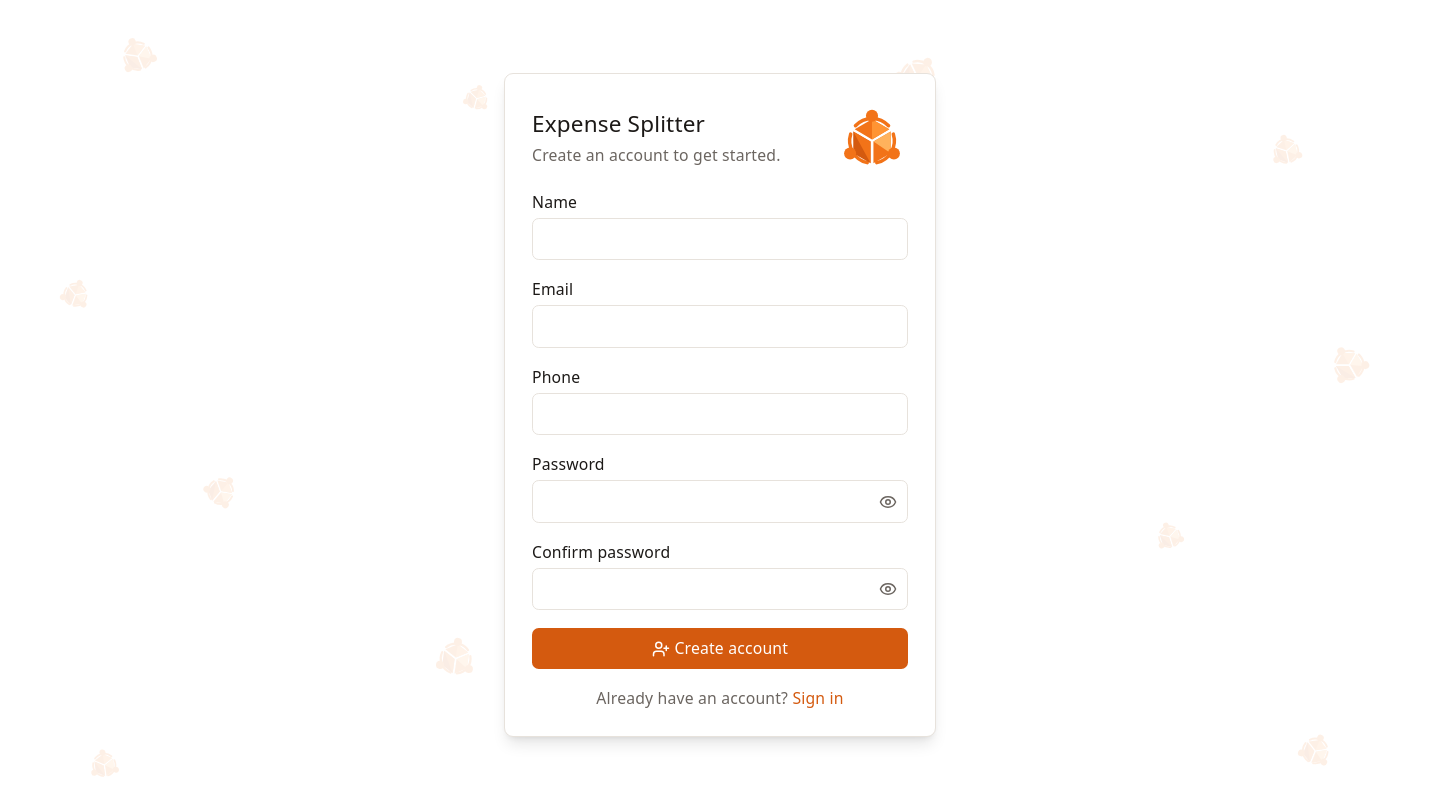
Test: RegisterPage › shows validation errors when submitted empty
The width and height of the screenshot is (1440, 810).
Click the button "Create account" at [720, 649], box [532,628,908,669]
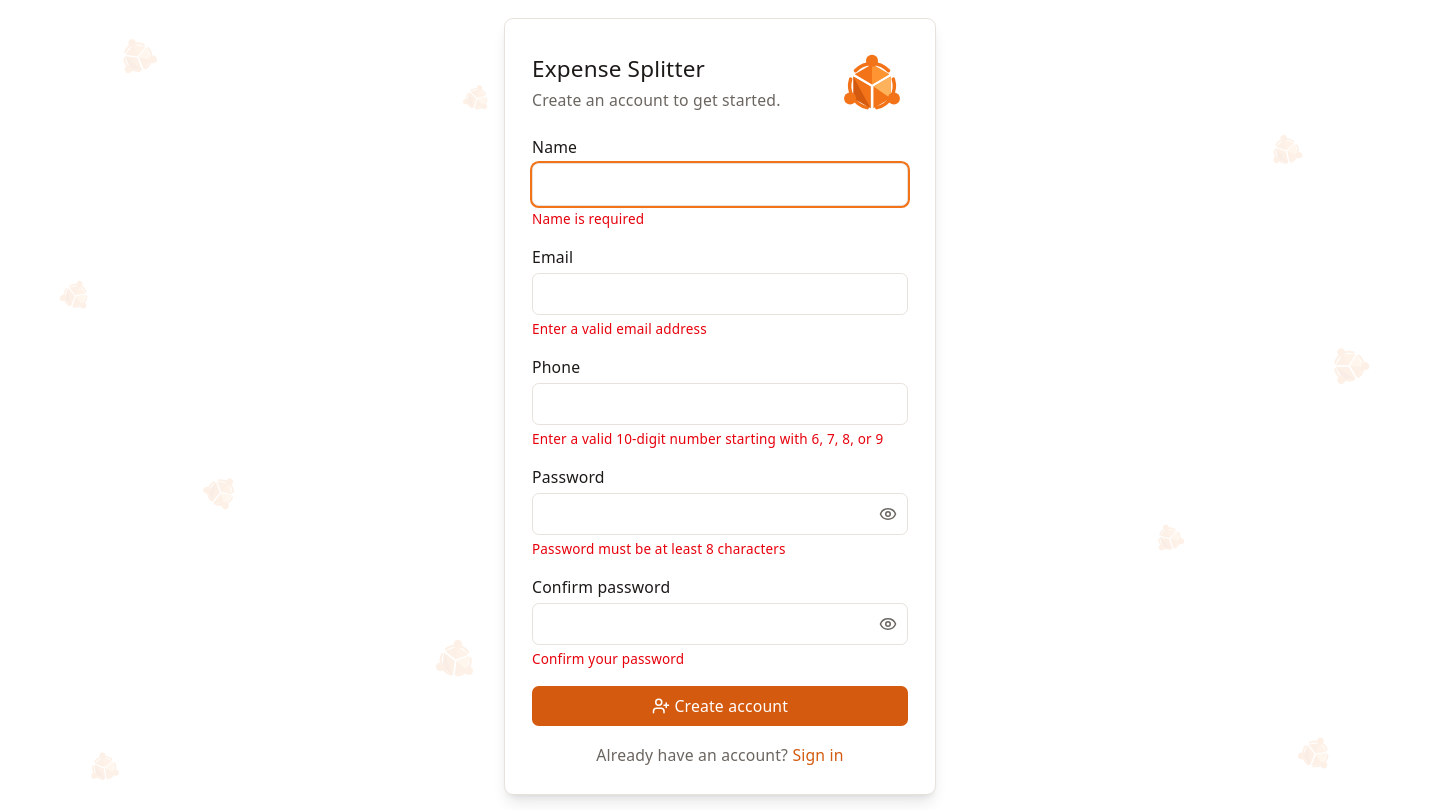
Result: the text "Name is required" is shown at [532,210,644,228]
Result: the text "Enter a valid email address" is shown at [532,320,707,338]
Result: the text "Enter a valid 10-digit number starting with 6, 7, 8, or 9" is shown at [532,430,908,448]
